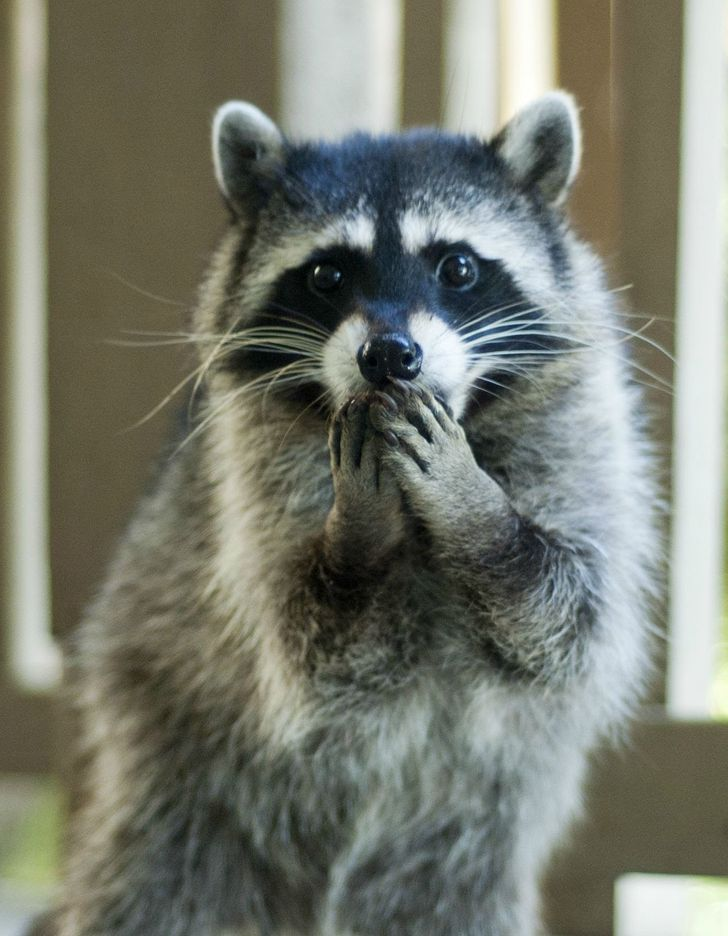raccoon: (203, 76, 623, 924)
